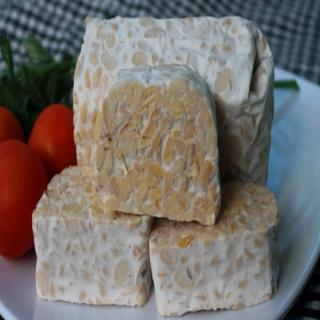Tempe: (73, 15, 278, 231)
